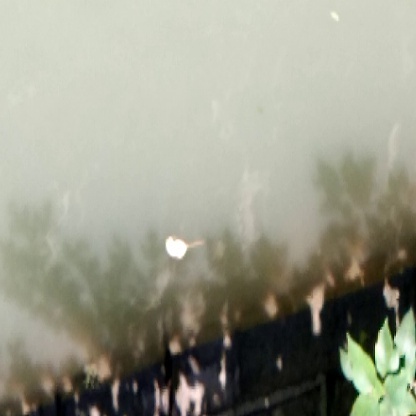grass: (332, 308, 416, 404)
